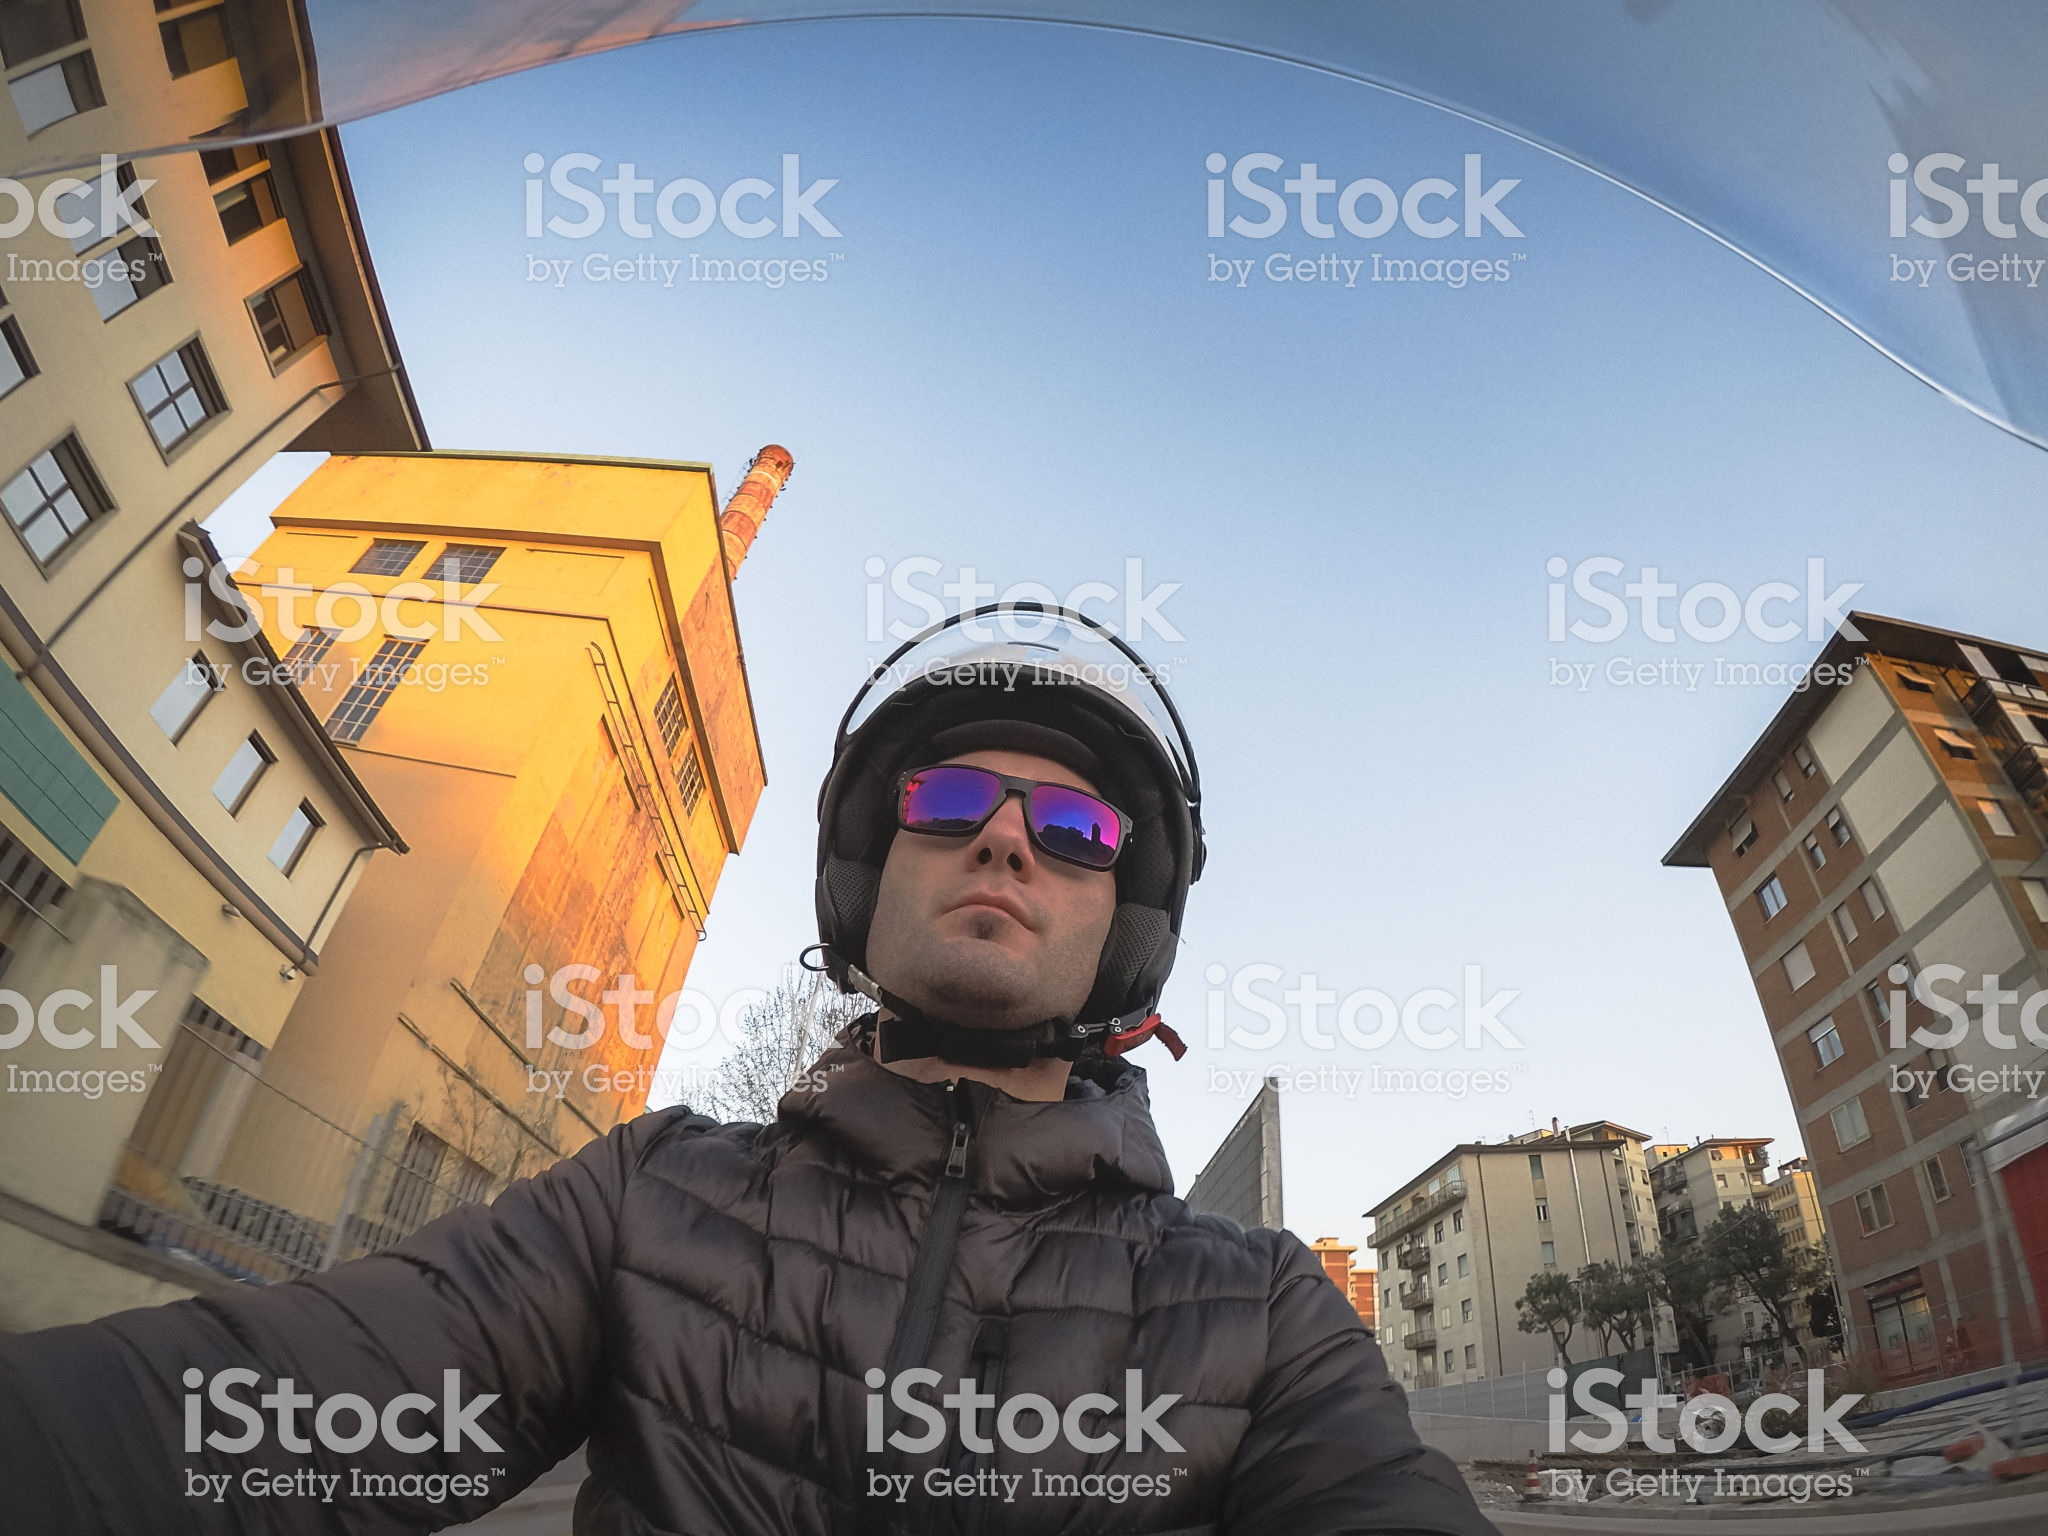helmet: (790, 603, 1229, 1054)
